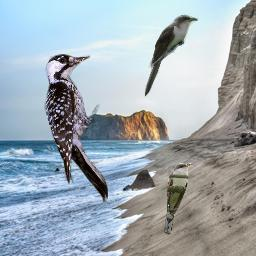Cuckoo: (142, 14, 198, 98), (164, 163, 193, 235)
Woodpecker: (44, 54, 108, 202)
